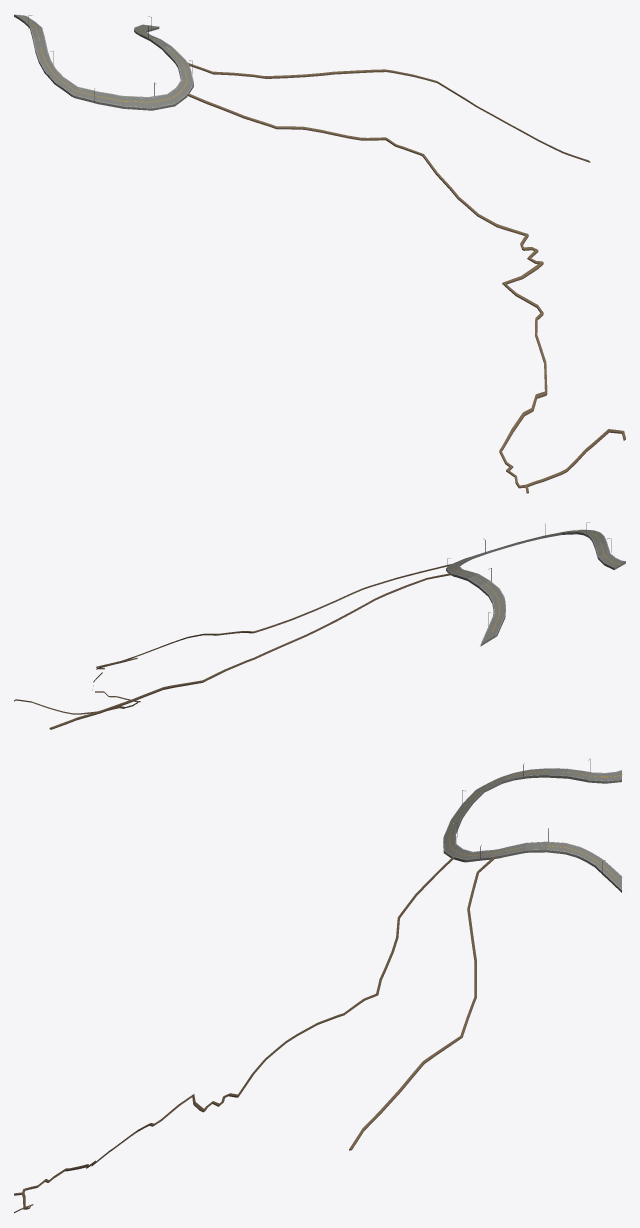
3 renders of one model, top to bottom at view 1: azimuth 30°, elevation 25°; view 2: azimuth 210°, elevation 25°; view 3: azimuth 270°, elevation 25°, orthographic.
Size of the model in its own units: 262 by 174 by 294.
